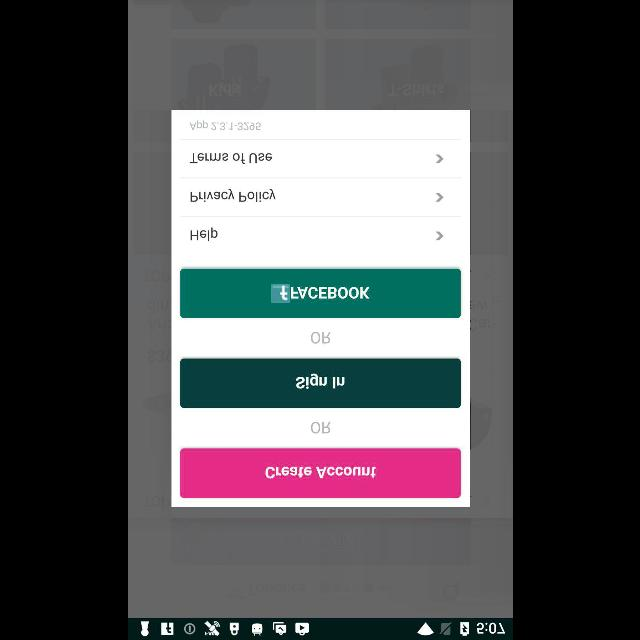icon: (435, 192, 443, 202), (435, 154, 443, 164), (435, 232, 443, 240)
panel: (170, 110, 470, 508)
text: (190, 188, 274, 202), (189, 152, 271, 164), (189, 120, 261, 130), (190, 228, 217, 240), (310, 332, 330, 344), (310, 422, 330, 433)
textbutton: (180, 358, 460, 408), (180, 448, 460, 498), (180, 268, 460, 318)
uppertaskbar: (128, 617, 512, 639)
